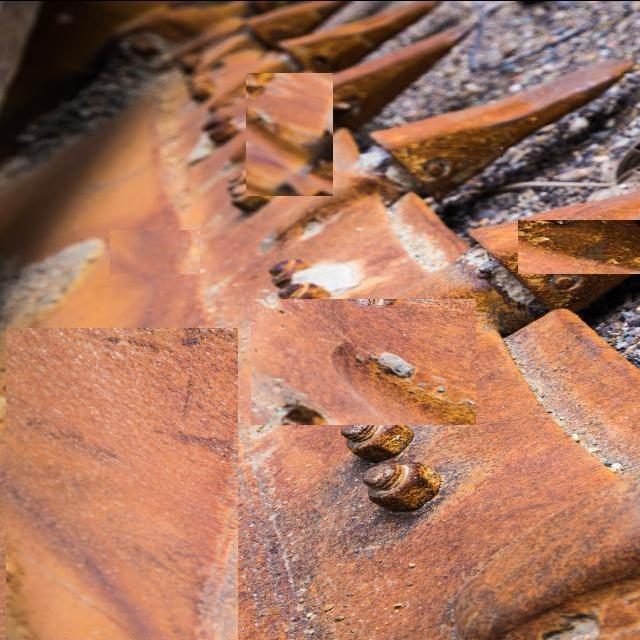Uniform Corrosion: (0, 2, 639, 639)
